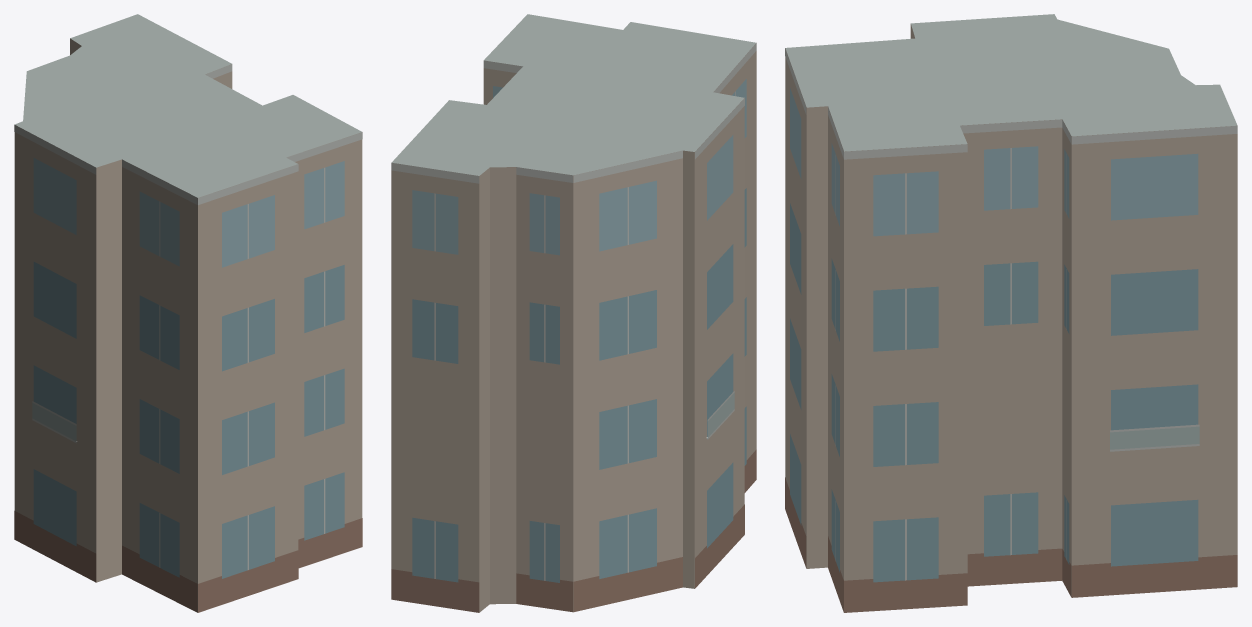
The model's file is survey-upis-32475043.glb.
3 renders of one model, left to right at view 1: azimuth 30°, elevation 25°; view 2: azimuth 150°, elevation 25°; view 3: azimuth 270°, elevation 25°, orthographic. The views are drawn at different scales.
Parts seen in each view (by area): view 1: survey-upis-32475043.tmp; view 2: survey-upis-32475043.tmp; view 3: survey-upis-32475043.tmp.
Part boxes in pixels (x1=…): survey-upis-32475043.tmp: x1=14, y1=14, x2=362, y2=612; survey-upis-32475043.tmp: x1=391, y1=14, x2=756, y2=612; survey-upis-32475043.tmp: x1=785, y1=14, x2=1237, y2=612.
Size of the model in its own units: 8.83 by 13.8 by 12.28.
